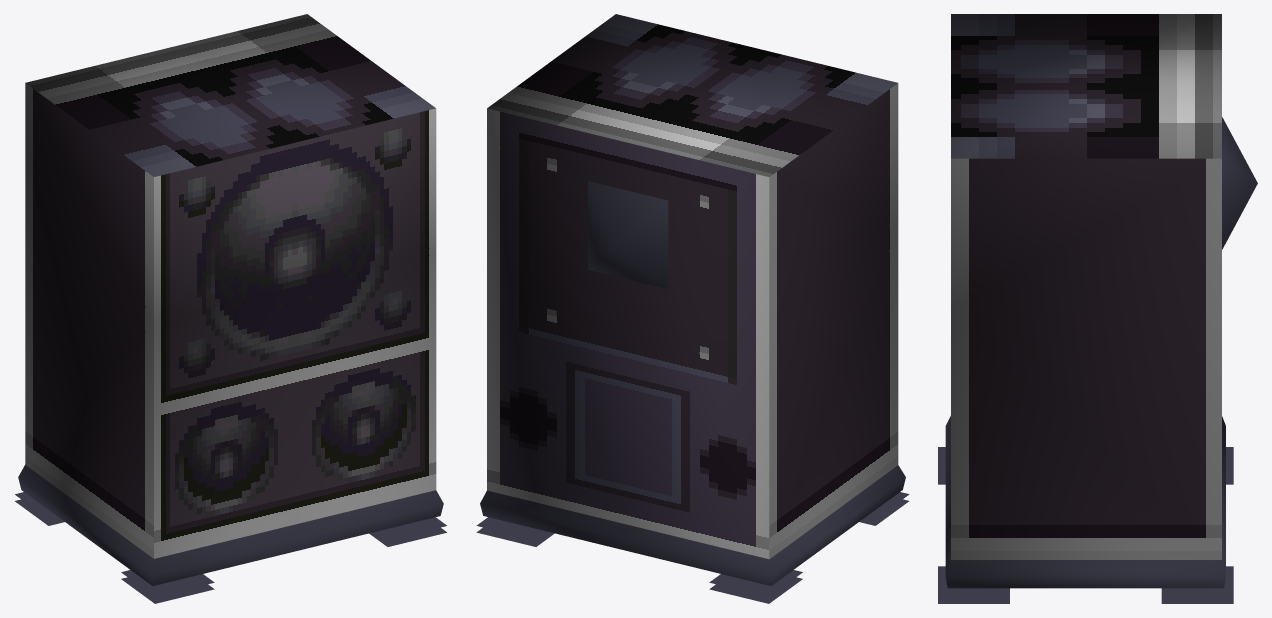
3 views of the same model, side by side, from view 1: azimuth 30°, elevation 25°; view 2: azimuth 150°, elevation 25°; view 3: azimuth 270°, elevation 25° (orthographic). The views are drawn at different scales.
Parts seen in each view (by area): view 1: 3310IMIG08_07; view 2: 3310IMIG08_07; view 3: 3310IMIG08_07.
Part boxes in pixels (x1,y1,x2,y2): 3310IMIG08_07: (15, 14, 446, 603); 3310IMIG08_07: (476, 14, 909, 603); 3310IMIG08_07: (938, 14, 1257, 603).
Size of the model in its own units: 0.9009 by 1.24 by 0.8118.
Materials: 4 (4 with a texture image).
